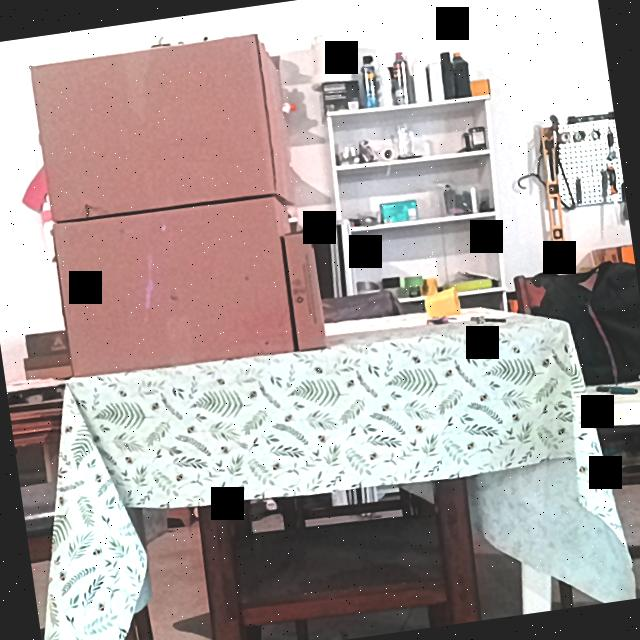box: (28, 32, 277, 226), (49, 194, 293, 382), (282, 230, 328, 350)
